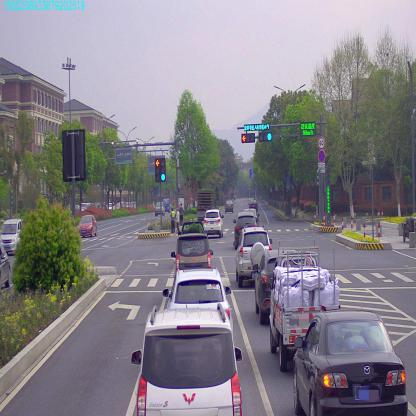traffic-light: (244, 122, 269, 130), (258, 130, 272, 140), (241, 133, 255, 140)
